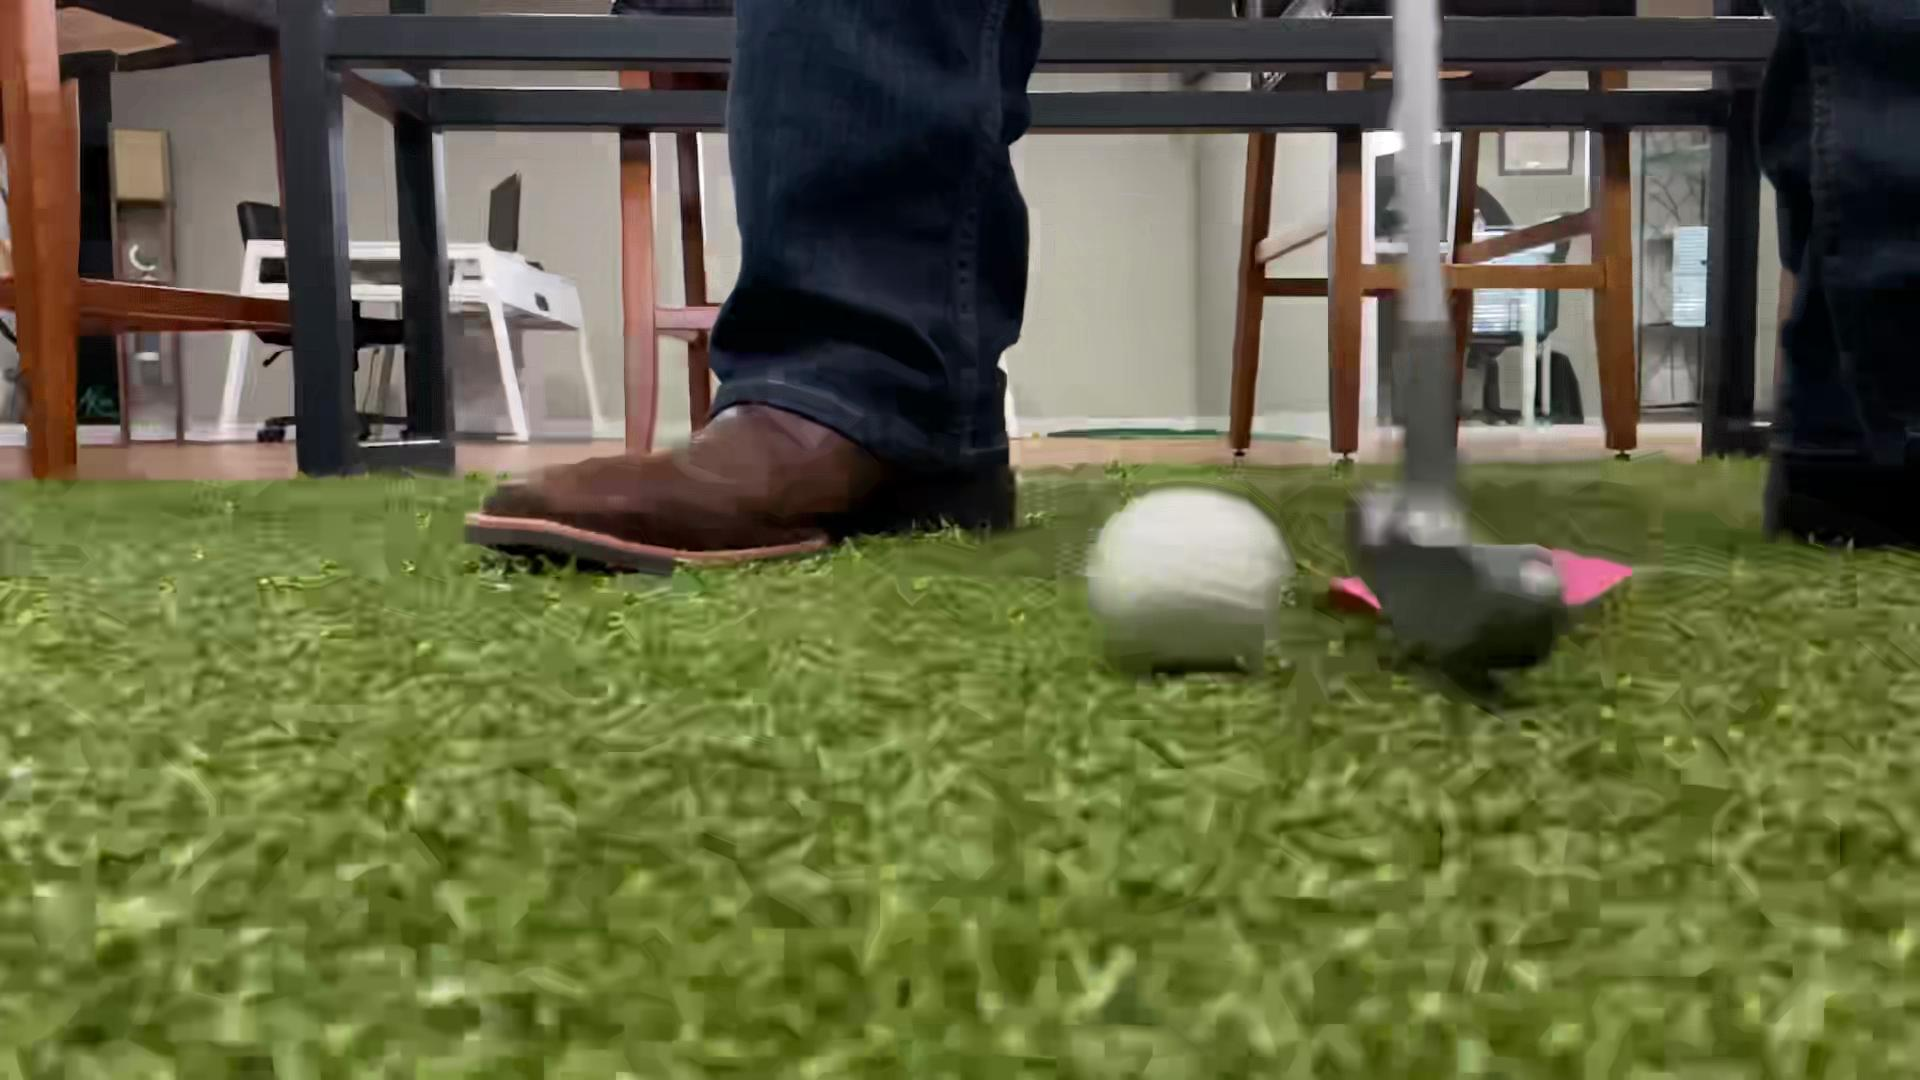golfball: (1084, 489, 1290, 669)
